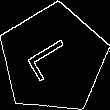L_NE: (24, 33, 82, 85)
